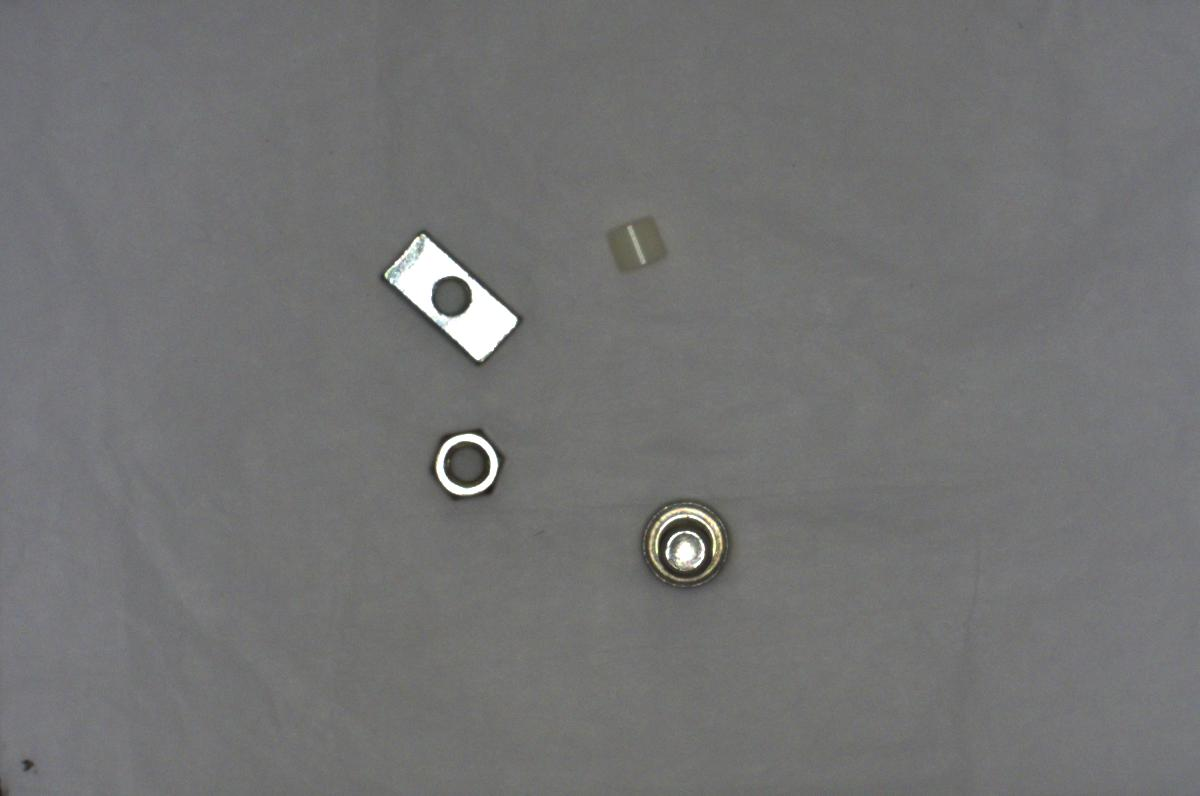Hexagon nut: (417, 413, 518, 510)
Hexagon screw: (635, 494, 734, 598)
Plastic cushion pillar: (606, 209, 667, 275)
Rectangular nut: (375, 233, 519, 370)
